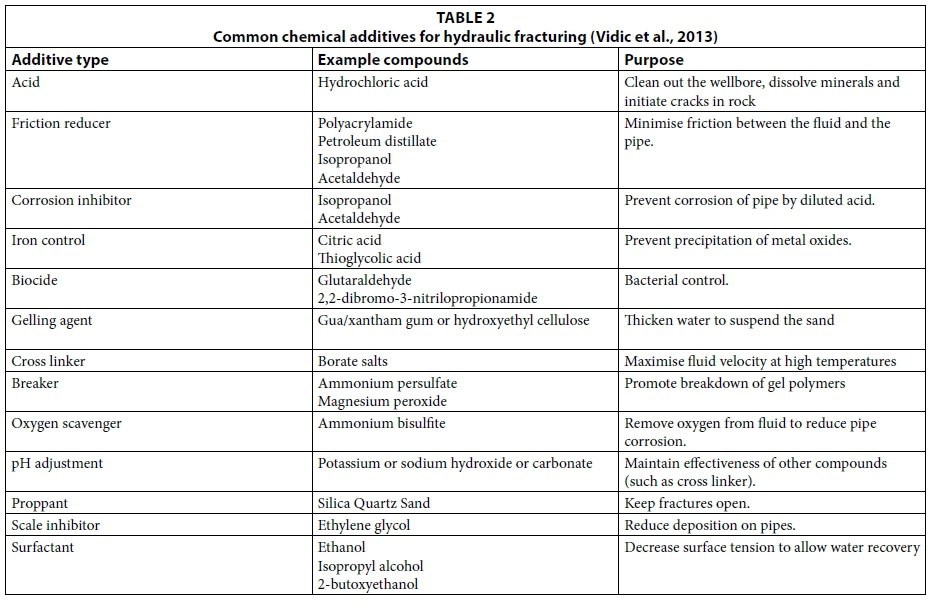fracking table: (1, 1, 934, 600)
